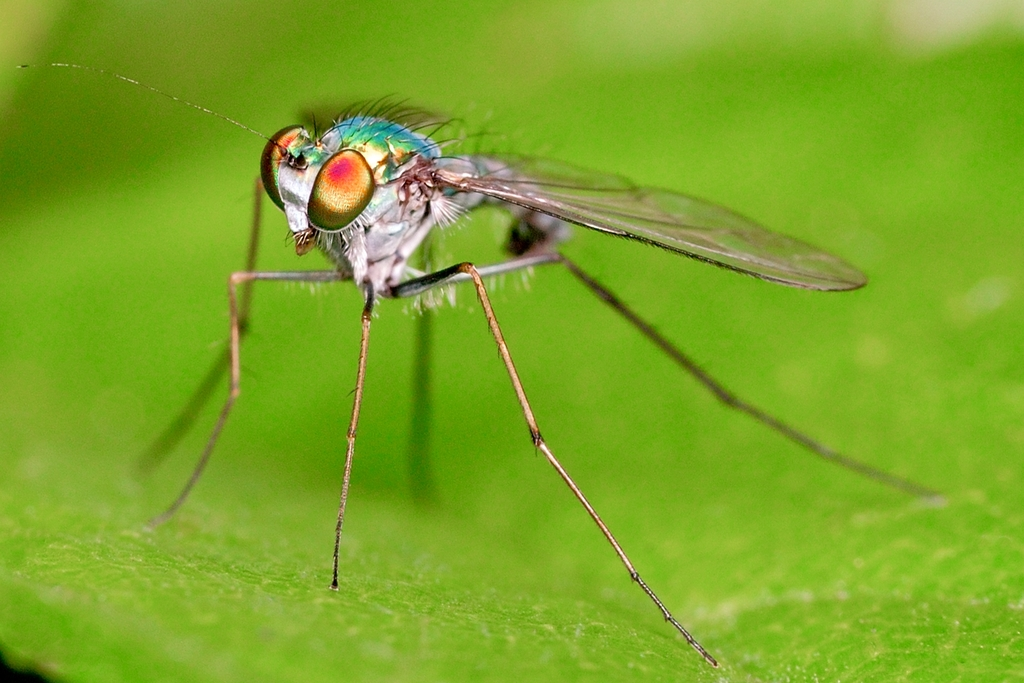person: (274, 95, 576, 302)
